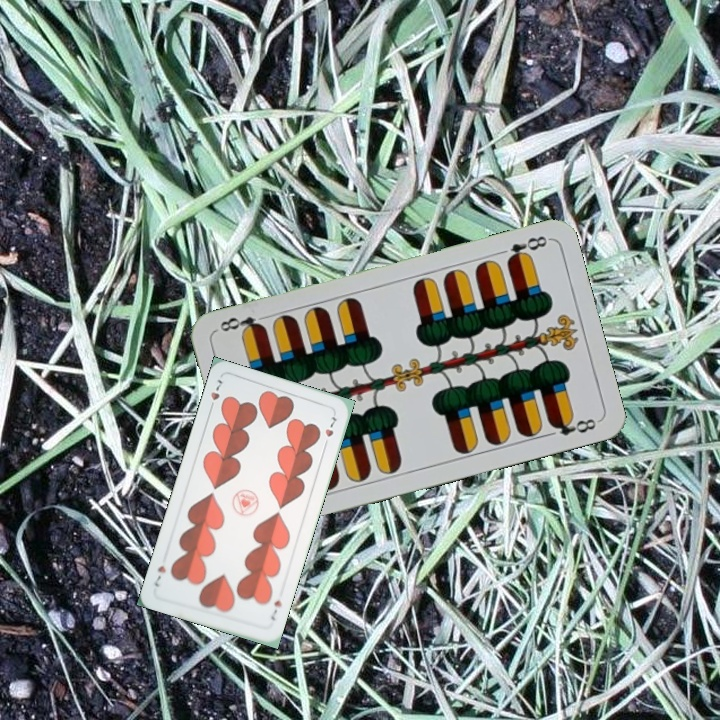E8: (503, 231, 550, 265)
H7: (205, 375, 225, 414), (266, 596, 284, 623)
